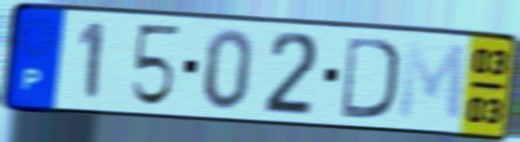0: (202, 25, 257, 114)
1: (76, 20, 105, 104)
2: (260, 28, 322, 120)
5: (129, 21, 185, 109)
D: (338, 33, 401, 122)
M: (395, 38, 468, 126)
